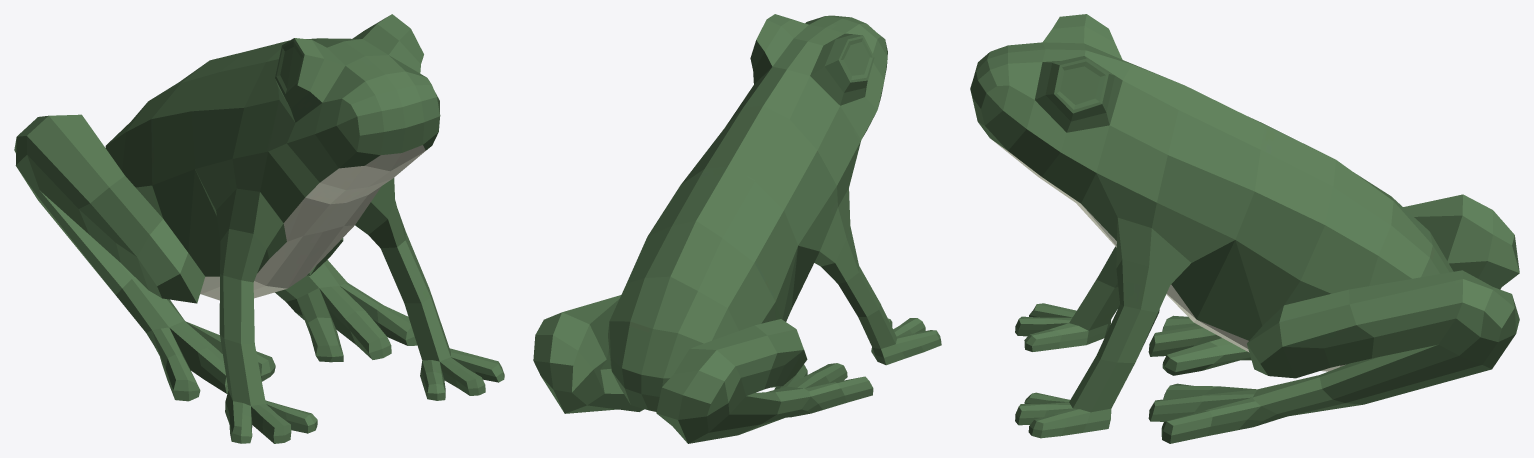
Rendered from Frog.glb.
3 renders of one model, left to right at view 1: azimuth 30°, elevation 25°; view 2: azimuth 150°, elevation 25°; view 3: azimuth 270°, elevation 25°, orthographic. The views are drawn at different scales.
Parts seen in each view (by area): view 1: 11frogFinal; view 2: 11frogFinal; view 3: 11frogFinal.
Part boxes in pixels (bbox=[...]): 11frogFinal: bbox=[14, 14, 504, 443]; 11frogFinal: bbox=[533, 14, 941, 443]; 11frogFinal: bbox=[970, 14, 1519, 443].
Bounding box in the file's own units: 0.131 × 0.1729 × 0.2448.
1 material, 1 textured.
